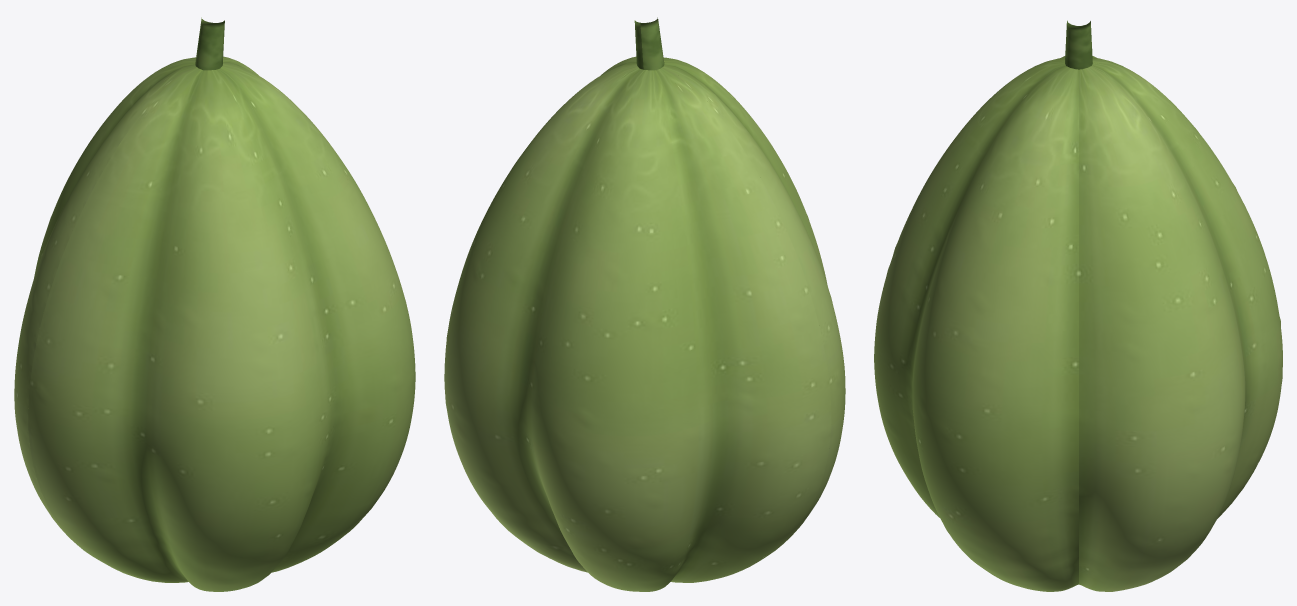
The model's file is chouchou.glb.
The picture shows the model from 3 angles, left to right: view 1: azimuth 30°, elevation 25°; view 2: azimuth 150°, elevation 25°; view 3: azimuth 270°, elevation 25°; orthographic projection.
Parts seen in each view (by area): view 1: moitie_A_peau, entier_peau, moitie_B_peau, entier_extra0; view 2: entier_peau, moitie_B_peau, moitie_A_peau, entier_extra0; view 3: entier_peau, moitie_B_peau, moitie_A_peau, entier_extra0.
Part boxes in pixels (box(x1,y1,x2,y2)): moitie_A_peau: box(28, 62, 415, 591); entier_peau: box(14, 57, 415, 591); moitie_B_peau: box(14, 56, 258, 542); entier_extra0: box(195, 17, 224, 70); entier_peau: box(444, 57, 845, 591); moitie_B_peau: box(444, 62, 831, 591); moitie_A_peau: box(604, 56, 845, 542); entier_extra0: box(634, 17, 664, 70); entier_peau: box(874, 56, 1282, 591); moitie_B_peau: box(1079, 56, 1282, 591); moitie_A_peau: box(874, 57, 1078, 591); entier_extra0: box(1065, 20, 1092, 69).
Size of the model in its own units: 0.084 by 0.1302 by 0.086.
Materials: 3 (3 with a texture image).
